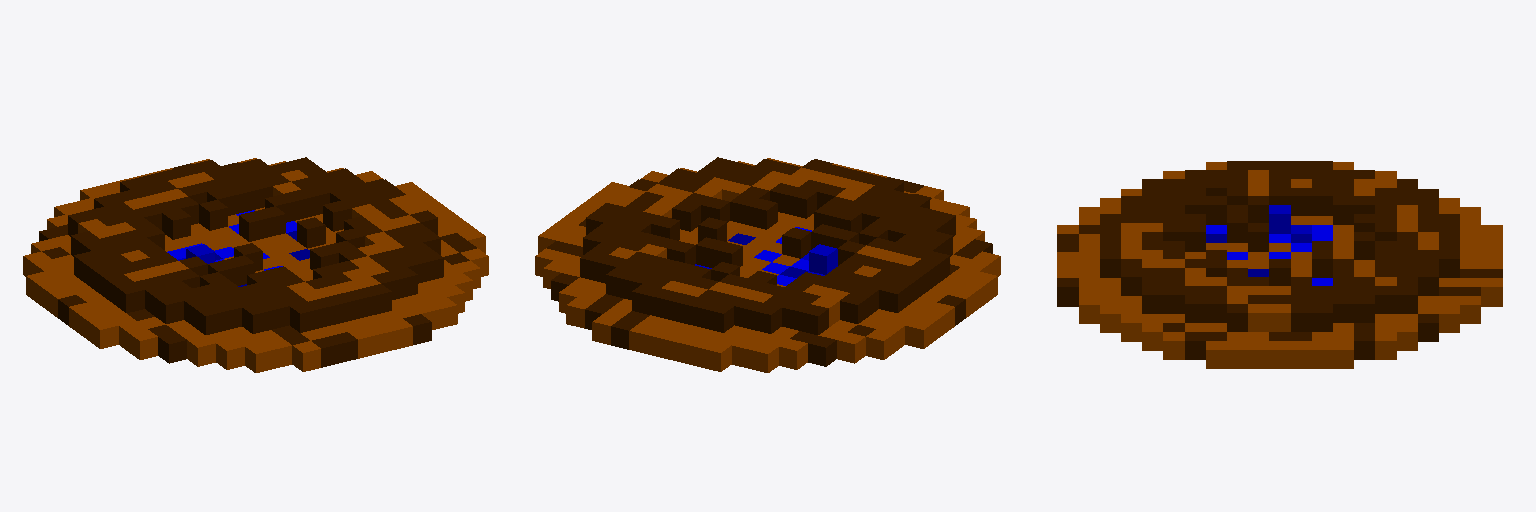
3 views of the same model, side by side, from view 1: azimuth 30°, elevation 25°; view 2: azimuth 150°, elevation 25°; view 3: azimuth 270°, elevation 25° (orthographic).
Visible parts, largest first — view 1: object 1; view 2: object 1; view 3: object 1.
Part boxes in pixels (left/top/right/bottom): object 1: left=23, top=157, right=488, bottom=372; object 1: left=535, top=157, right=1000, bottom=372; object 1: left=1057, top=161, right=1502, bottom=368.
Size of the model in its own units: 2.1 by 0.2 by 2.1.
1 materials, 1 textured.